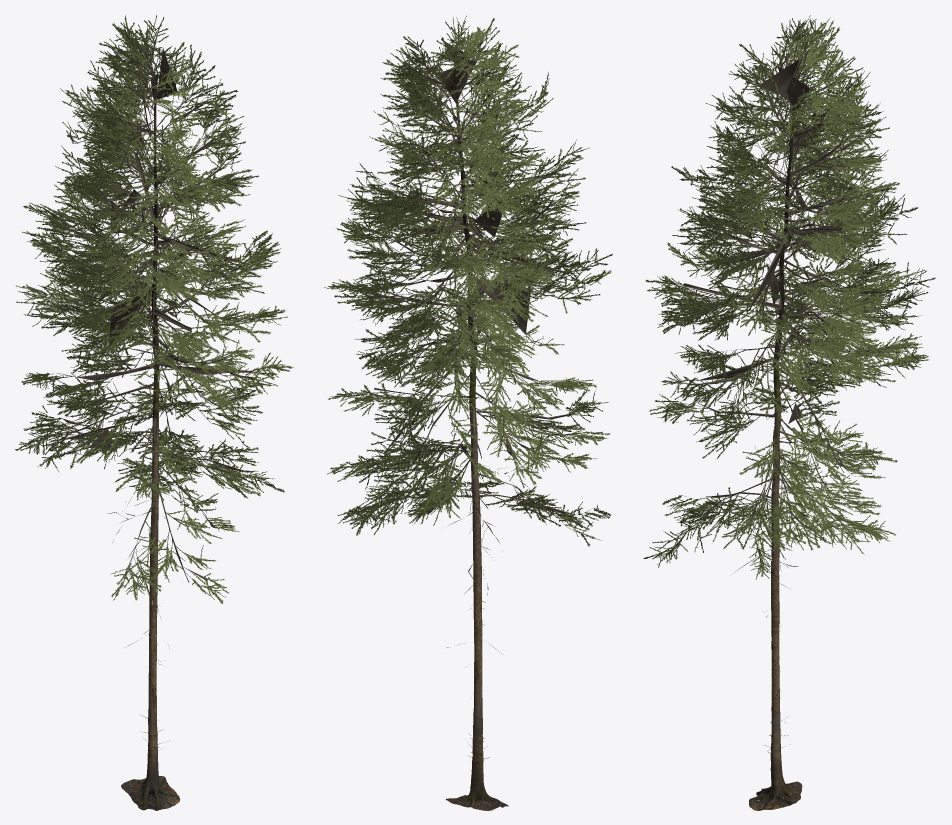
Rendered from fir-tree-01-a.glb.
3 views of the same model, side by side, from view 1: azimuth 30°, elevation 25°; view 2: azimuth 150°, elevation 25°; view 3: azimuth 270°, elevation 25° (orthographic). The views are drawn at different scales.
Parts seen in each view (by area): view 1: fir_tree_01_a; view 2: fir_tree_01_a; view 3: fir_tree_01_a.
Boxes of the visible parts, left/top/right/bottom form: fir_tree_01_a: left=15, top=15, right=293, bottom=810; fir_tree_01_a: left=324, top=15, right=612, bottom=810; fir_tree_01_a: left=643, top=15, right=935, bottom=810.
Size of the model in its own units: 6.56 by 18.94 by 6.48.
3 materials, 3 textured.
